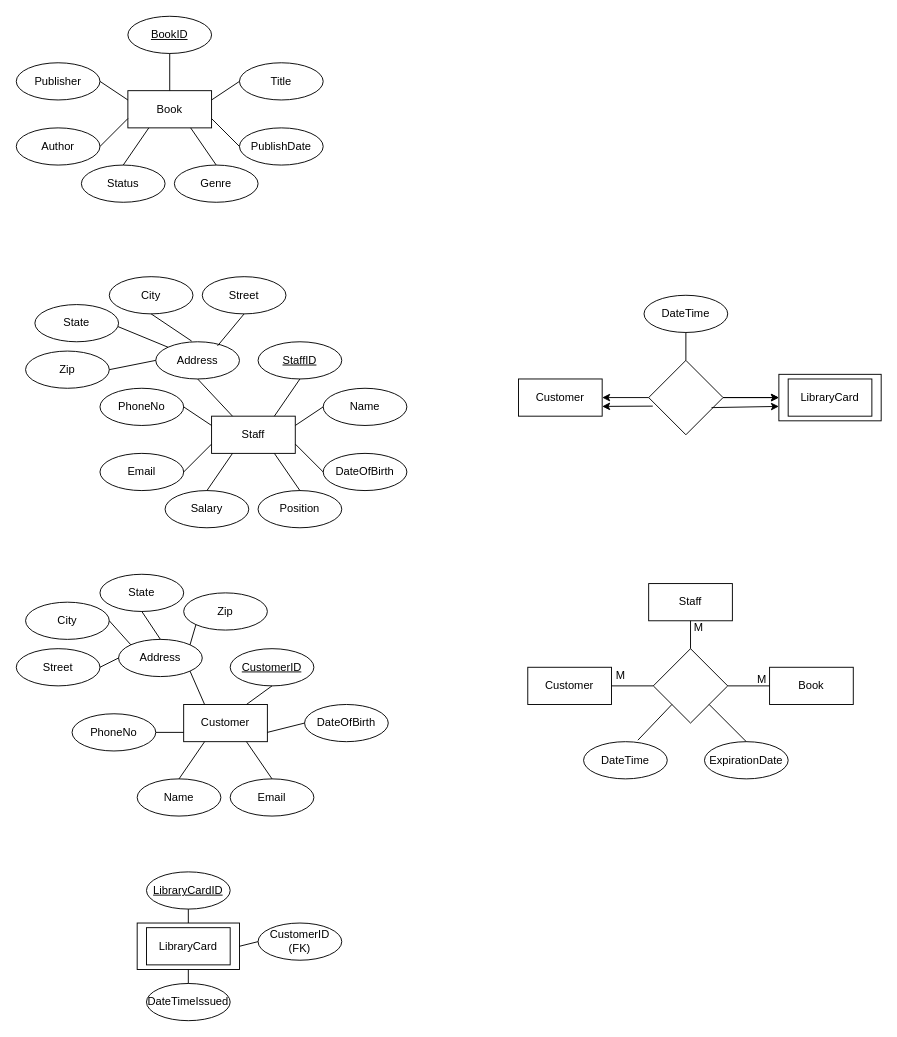
Some shapes in this 897 by 1037 pixel diagram are drawn without their labels. Here are the shapes that lost their labels. From the top down, the centre of each, then its label:
At (x=685, y=397): "Register".
At (x=690, y=685): "Borrow".
